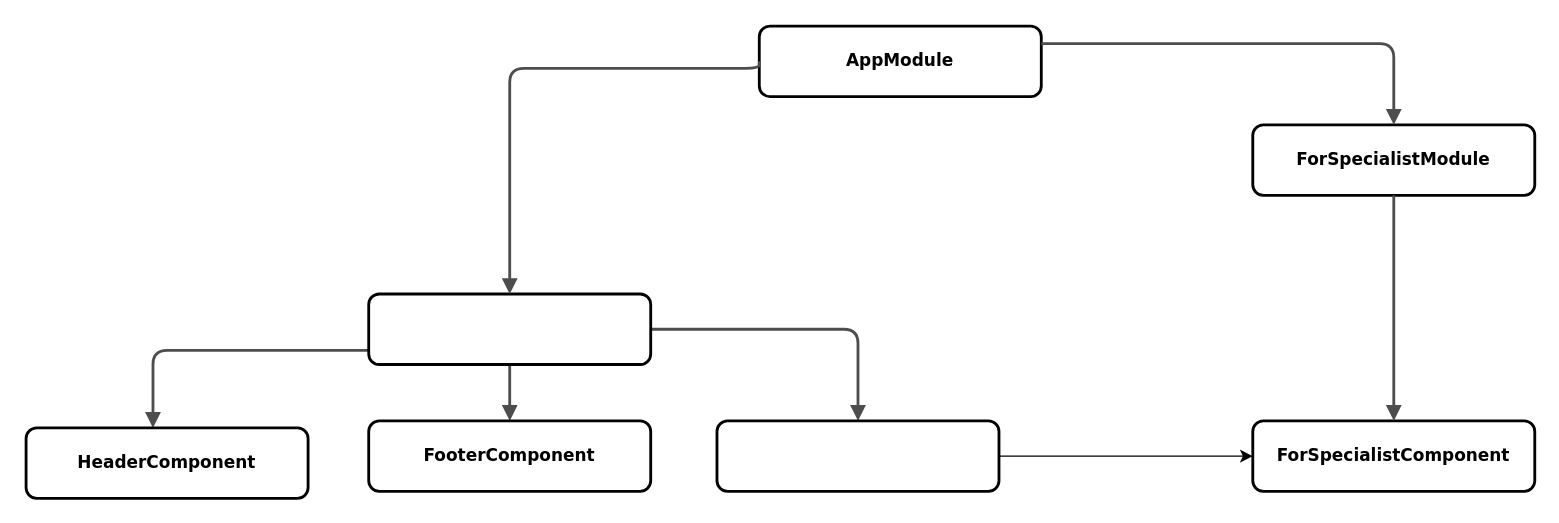
The diagram is 1559 pixels wide and 523 high, and some of its shapes have lost their labels. Each missing label, with the centre of its shape:
"AppComponent" goes at (509,328).
"ServiceComponent" goes at (857,455).
